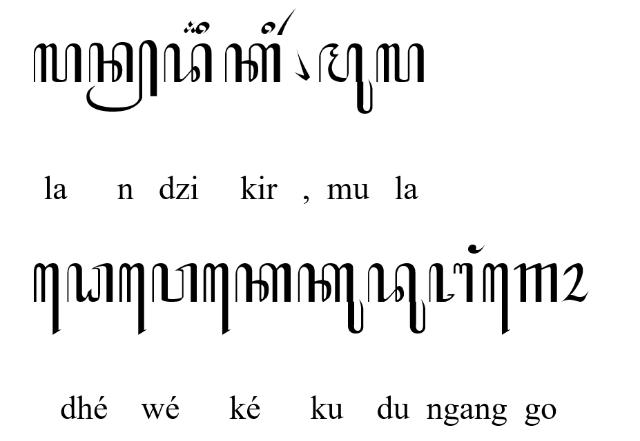-n: (86, 40, 158, 112)
_r1: (276, 8, 296, 36)
alt: (182, 18, 200, 34)
d: (164, 41, 212, 84)
dh: (67, 264, 115, 304)
du: (368, 263, 427, 333)
e1: (32, 263, 62, 336), (119, 264, 148, 336), (203, 263, 231, 335), (484, 263, 511, 336)
g: (512, 262, 558, 304)
i: (260, 21, 276, 35), (196, 22, 210, 34)
k: (224, 42, 282, 84), (234, 262, 292, 304)
kom: (294, 48, 310, 80)
ku: (298, 262, 364, 335)
l: (375, 41, 425, 84), (34, 42, 82, 84)
mu: (317, 43, 373, 116)
ng: (468, 245, 484, 255)
nga: (428, 264, 474, 304)
o: (561, 263, 589, 303)
w: (150, 264, 198, 304)
